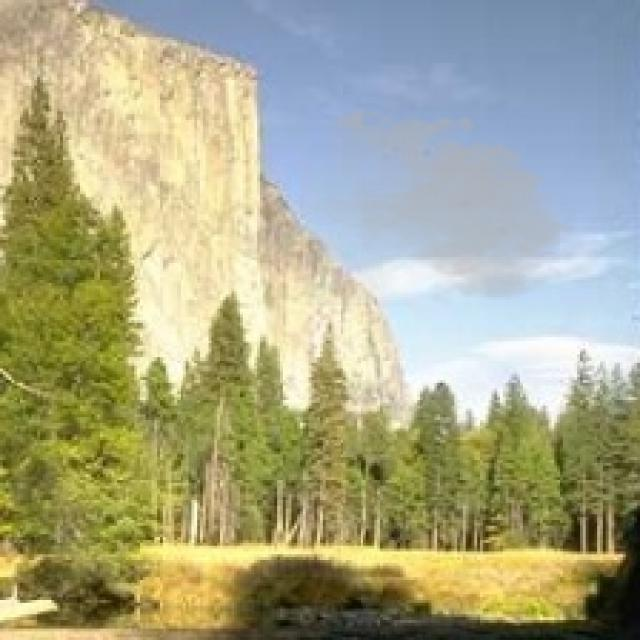Smoke: (300, 103, 583, 306)
